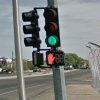Traffic light: (16, 4, 73, 76)
